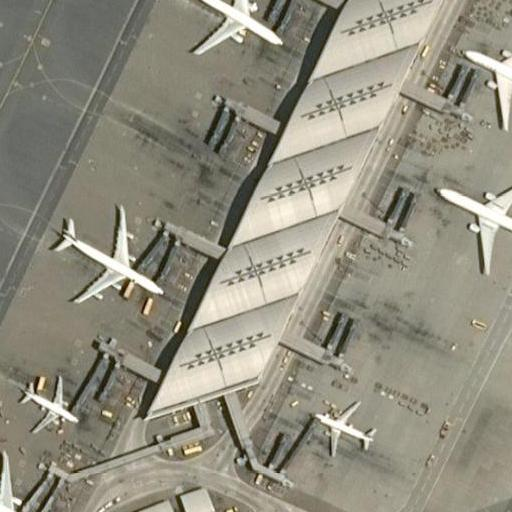Aircraft: (40, 199, 172, 312), (44, 201, 165, 308), (428, 164, 512, 274), (430, 167, 512, 275), (158, 0, 289, 61), (168, 0, 286, 62), (450, 19, 512, 132), (0, 367, 89, 437), (458, 23, 512, 130), (300, 397, 380, 455), (12, 371, 83, 434), (308, 398, 378, 458), (0, 441, 52, 512), (0, 449, 45, 512)
